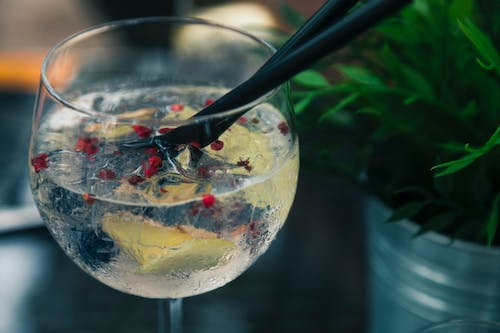alcohol: (27, 16, 300, 333)
